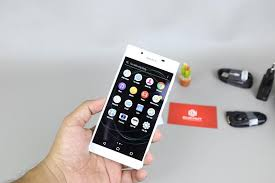sony: (85, 41, 181, 170)
